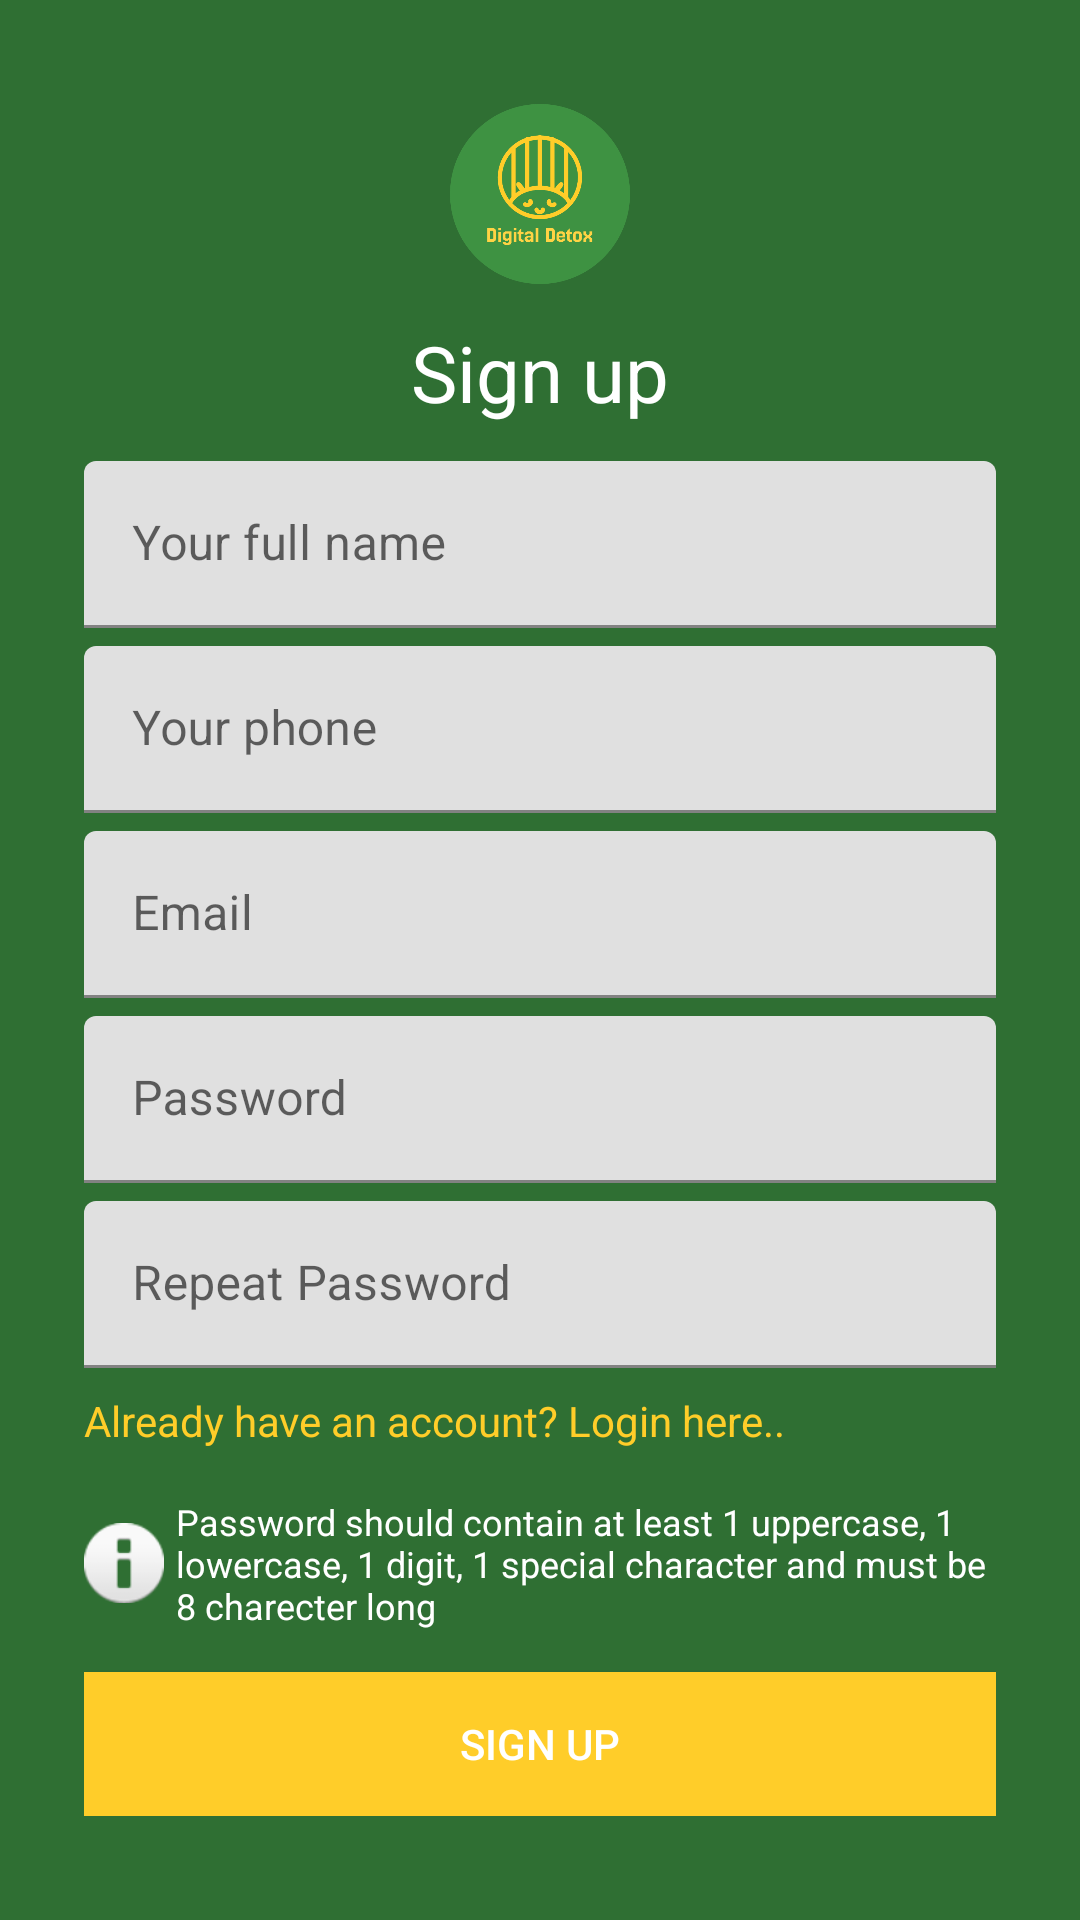

Icon bounding boxes for this 1080px x 1920px phone screenshot, format Rect(x1, y1, x2, y2):
info: Rect(84, 1523, 164, 1603)
